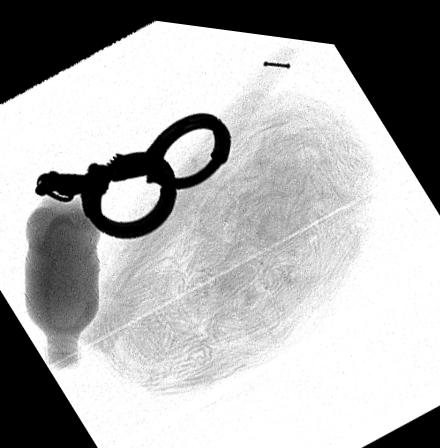HandCuffs: (34, 107, 230, 234)
